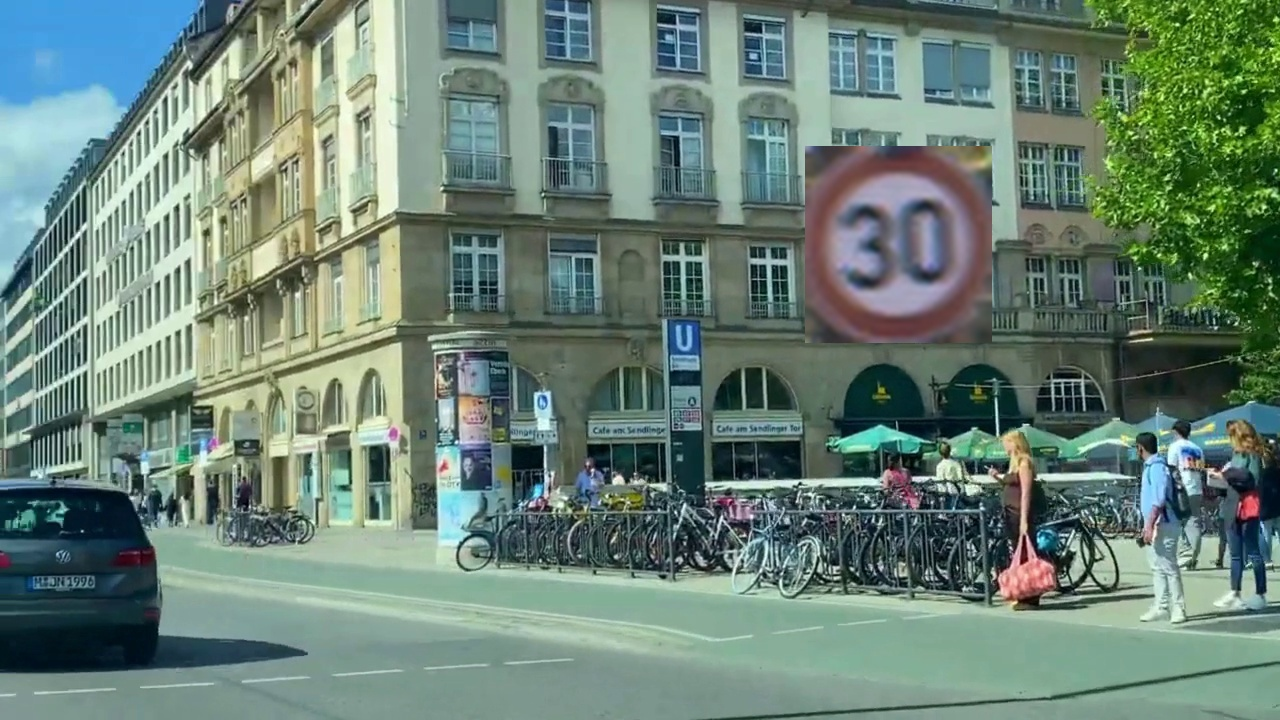Speed 30: (805, 146, 992, 343)
